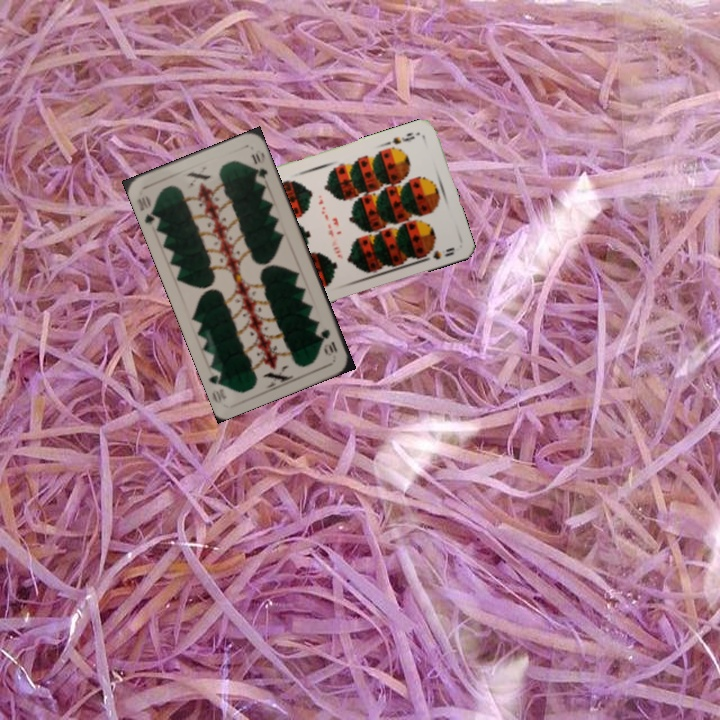G10: (133, 192, 162, 227), (317, 325, 340, 358)
S9: (388, 128, 417, 147)
